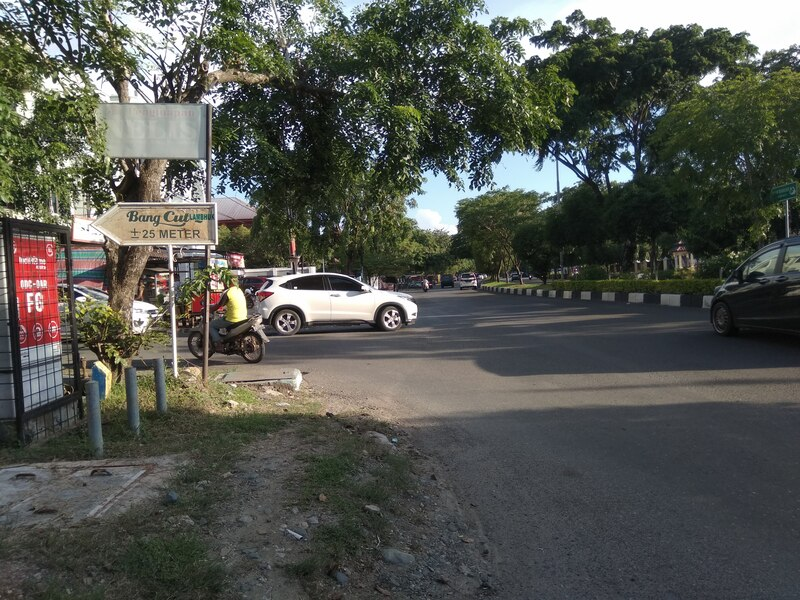car: (251, 269, 422, 340), (703, 233, 800, 343), (50, 276, 167, 354)
motorcycle: (182, 302, 274, 368)
